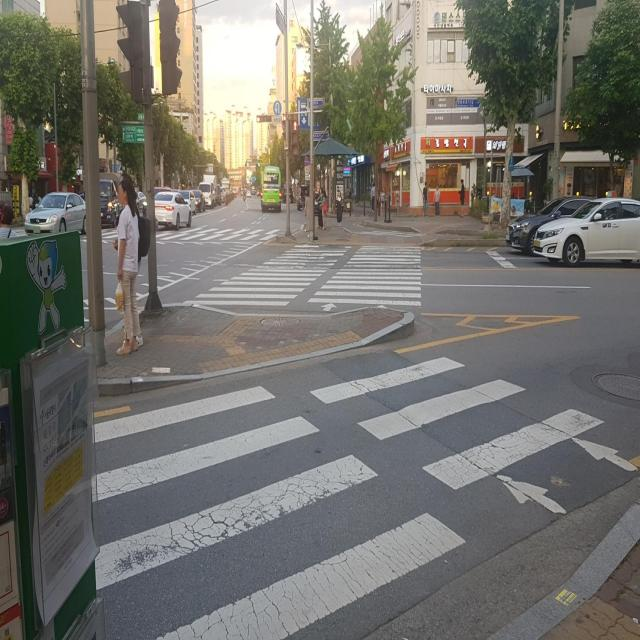빨간불: (291, 120, 299, 155)
횡단보도: (94, 353, 638, 640), (174, 236, 426, 307), (82, 227, 285, 240)
